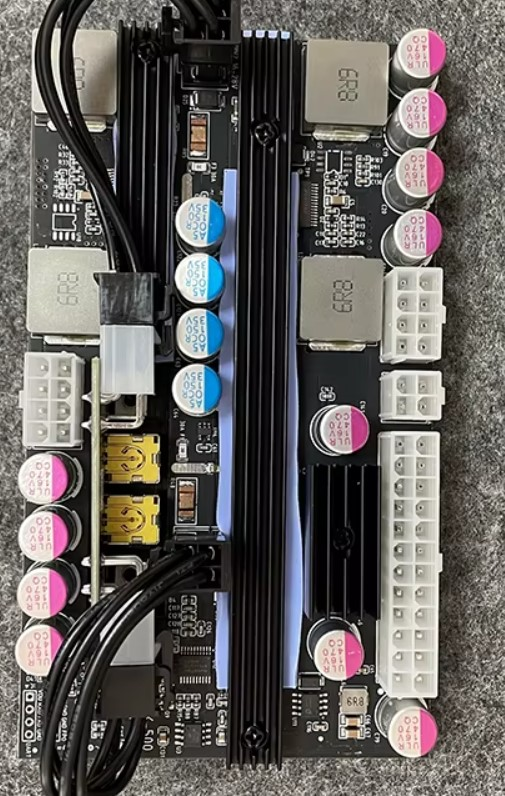Induktor: (302, 37, 390, 132), (297, 253, 384, 345), (29, 247, 113, 335), (339, 686, 369, 714)
